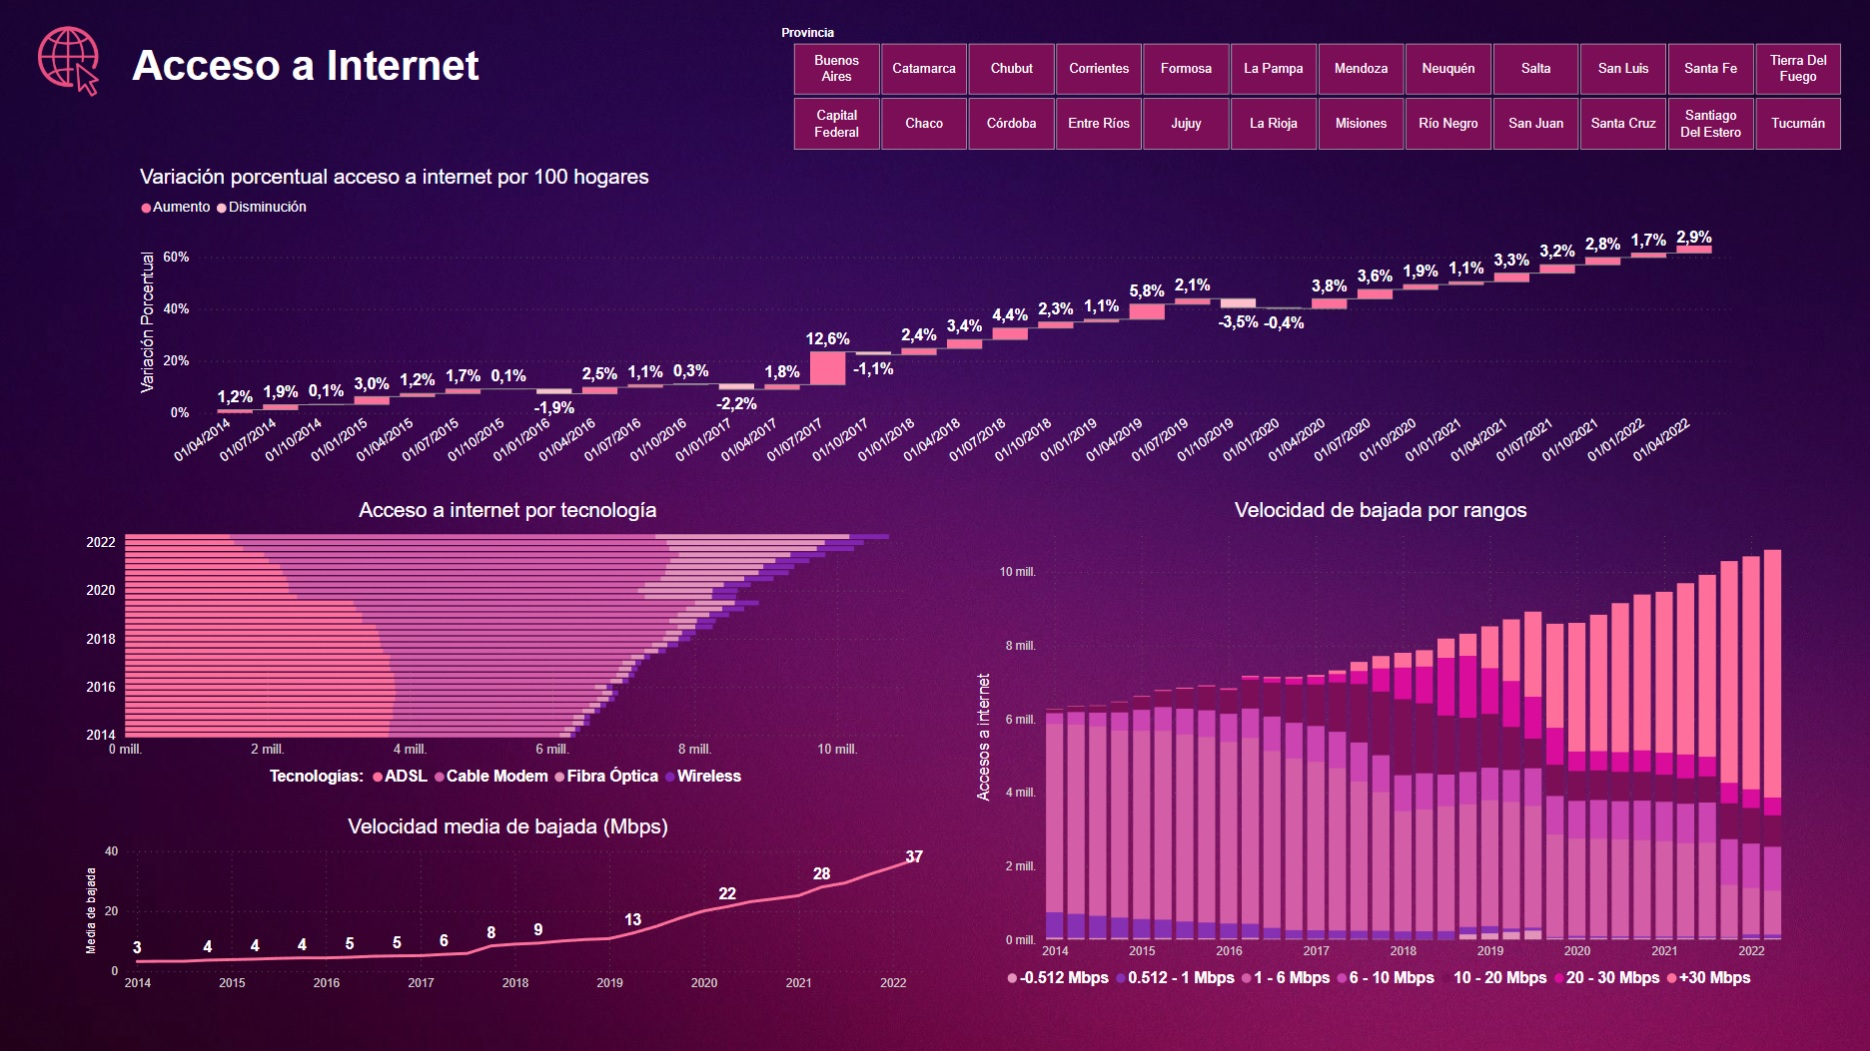

The dashboard page shown, as its layout file describes it:
{"tool":"powerbi","page":{"name":"Acceso a Internet","canvas":[1920,1080],"ordinal":0},"visuals":[{"type":"barChart","title":"Acceso a internet por tecnología","fields":{"Y":["Sum(acceso_a_internet.ADSL)","Sum(acceso_a_internet.Cablemodem)","Sum(acceso_a_internet.Fibra óptica)","Sum(acceso_a_internet.Wireless)"],"Category":["acceso_a_internet.Date"]},"box":[83.2,512.7,876.4,306.6],"z":0},{"type":"lineChart","title":"Velocidad media de bajada (Mbps)","fields":{"Y":["Avg(acceso_a_internet.Mbps (Media de bajada))"],"Category":["acceso_a_internet.Date"]},"box":[83.2,836.7,876.4,188.7],"z":1000},{"type":"waterfallChart","title":"Variación porcentual acceso a internet por 100 hogares","fields":{"Y":["acceso_a_internet.Porcentaje_Variacion"],"Category":["acceso_a_internet.Date"]},"box":[137.8,168.8,1643.6,325.2],"z":2000},{"type":"columnChart","title":"Velocidad de bajada por rangos","fields":{"Y":["Sum(acceso_a_internet.< 0.512)","Sum(acceso_a_internet.0.512 - 1)","Sum(acceso_a_internet.1 - 6)","Sum(acceso_a_internet.6 - 10)","Sum(acceso_a_internet.10 - 20)","Sum(acceso_a_internet.20 - 30)","Sum(acceso_a_internet.30 <)"],"Category":["acceso_a_internet.Date"]},"box":[996.8,512.7,841.7,512.7],"z":3000},{"type":"textbox","box":[88.8,37.5,448.8,92.5],"z":4000},{"type":"image","box":[21.2,18.8,97.5,88.8],"z":5000},{"type":"slicer","fields":{"Values":["acceso_a_internet.Provincia"]},"box":[789.5,21.1,1124.7,139],"z":7000}]}

Visuals, with their boxes in screenshot pixels (x1, y1, x2, y2), scaled from the page's 1920x1080 canvas onto the 1870x1051 screenshot:
"Acceso a internet por tecnología" barChart: x1=81 y1=499 x2=935 y2=797
"Velocidad media de bajada (Mbps)" lineChart: x1=81 y1=814 x2=935 y2=998
"Variación porcentual acceso a internet por 100 hogares" waterfallChart: x1=134 y1=164 x2=1735 y2=481
"Velocidad de bajada por rangos" columnChart: x1=971 y1=499 x2=1791 y2=998
textbox: x1=86 y1=36 x2=524 y2=127
image: x1=21 y1=18 x2=116 y2=105
slicer - acceso_a_internet.Provincia: x1=769 y1=21 x2=1864 y2=156
